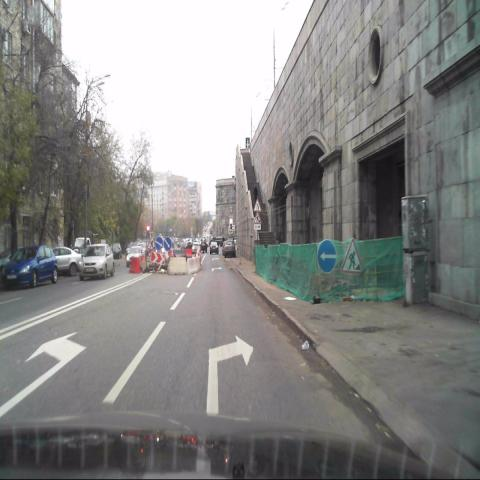4_1_2_2: (317, 238, 337, 273)
